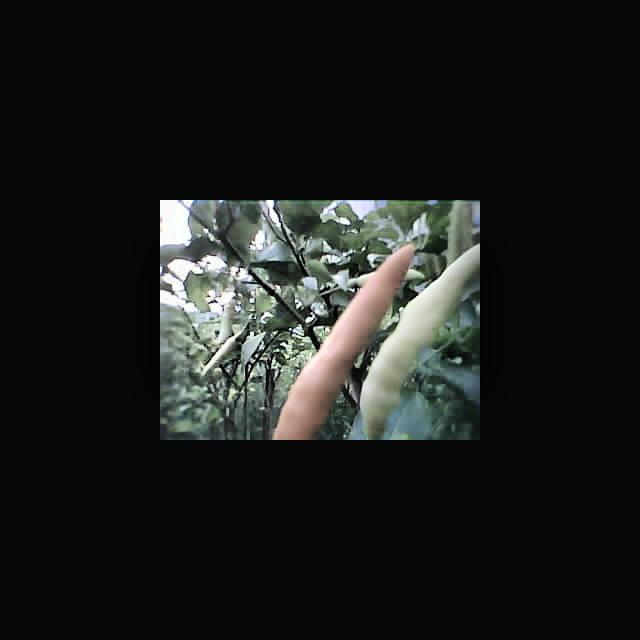Cabai: (292, 266, 353, 431)
